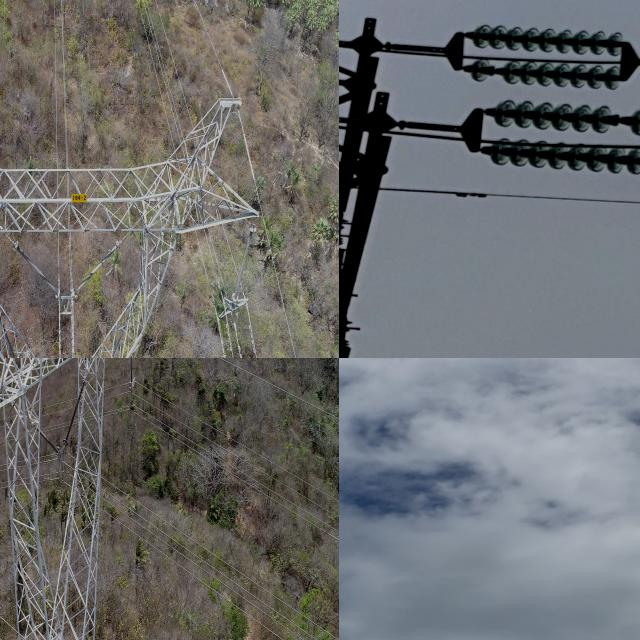杆塔: (0, 63, 258, 358), (339, 12, 508, 358), (0, 358, 135, 640)
正常绝缘子: (490, 138, 640, 177), (493, 98, 640, 137), (472, 24, 625, 56), (471, 59, 620, 90), (231, 217, 259, 328), (12, 239, 61, 301), (71, 241, 120, 300), (62, 377, 88, 447), (31, 420, 60, 457), (128, 358, 134, 383)
绝缘子破损: (612, 112, 632, 130), (486, 64, 500, 76)
